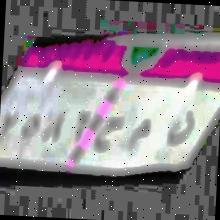2: (0, 102, 18, 145)
5: (17, 103, 40, 149)
6: (73, 103, 90, 143)
8: (42, 106, 66, 150)
ain: (93, 108, 122, 163)
meem: (126, 110, 156, 154)
noon: (164, 100, 198, 157)
